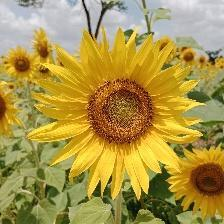sunflower: (38, 25, 203, 197)
